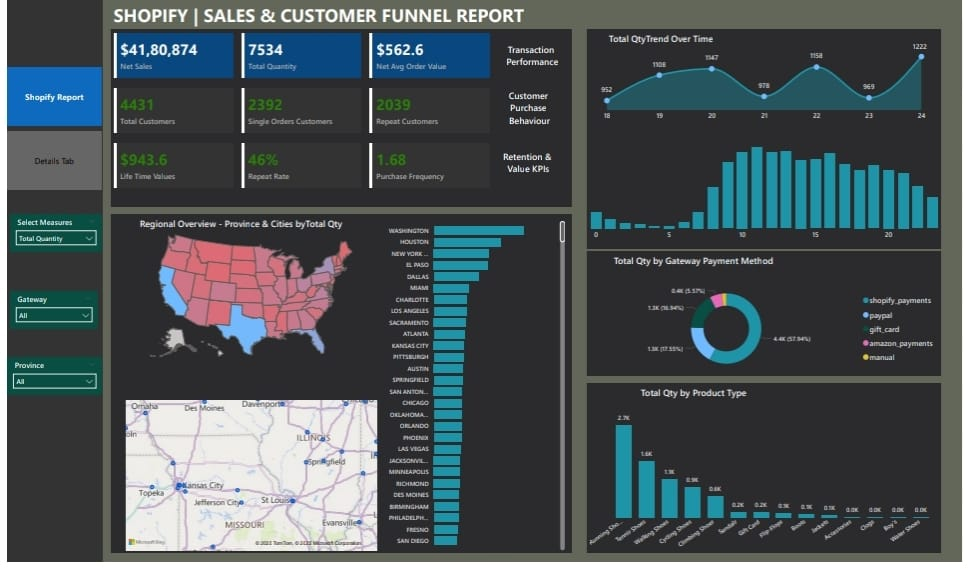

The page's visual inventory and layout, read from the dashboard file:
{"tool":"powerbi","page":{"name":"Shopify Report","canvas":[1700,1000],"ordinal":0},"visuals":[{"type":"shape","box":[0,0,169.2,1000.3],"z":0},{"type":"textbox","box":[184.3,0,744,53.6],"z":1000},{"type":"shape","box":[184.3,53.6,819.4,315],"z":2000},{"type":"cardVisual","fields":{"Data":["shopify_sales.Net Sales","shopify_sales.Total Quantity","shopify_sales.Net Avg Order Value"]},"box":[184.3,53.6,680.3,90.5],"z":3000},{"type":"card","fields":{"Values":["shopify_sales.Transaction Perf"]},"box":[864.6,60.3,139.1,77.1],"z":4000},{"type":"cardVisual","fields":{"Data":["shopify_sales.Total Customers","shopify_sales.Single Orders Customers","shopify_sales.Repeat Customers"]},"box":[184.3,151.6,680.3,90.5],"z":5000},{"type":"card","fields":{"Values":["shopify_sales.Customer Purchase Behaviour"]},"box":[859.6,144.1,139.1,90.5],"z":6000},{"type":"cardVisual","fields":{"Data":["shopify_sales.Life Time Values","shopify_sales.Repeat Rate","shopify_sales.Purchase Frequency"]},"box":[184.3,249.7,680.3,90.5],"z":7000},{"type":"card","fields":{"Values":["shopify_sales.Retention & Value KPIs"]},"box":[857.9,249.7,139.1,78.8],"z":8000},{"type":"shape","box":[184.3,382,819.4,603.2],"z":9000},{"type":"shapeMap","fields":{"Value":["shopify_sales.Total Quantity"],"Category":["shopify_sales.Billing Address Province"]},"box":[206.1,402.1,455.8,249.7],"z":10000},{"type":"slicer","fields":{"Values":["Select Measures.Select Measures"]},"box":[5,382,162.5,67],"z":11000},{"type":"map","fields":{"Category":["shopify_sales.Location"]},"box":[206.1,670.2,455.8,315],"z":12000},{"type":"clusteredBarChart","fields":{"Y":["shopify_sales.Total Quantity"],"Category":["shopify_sales.CITY"]},"box":[661.9,382,335.1,603.2],"z":13000},{"type":"card","fields":{"Values":["shopify_sales.Map Title"]},"box":[184.3,383.7,464.1,35.2],"z":14000},{"type":"shape","box":[1032.2,53.6,630,390.4],"z":15000},{"type":"areaChart","fields":{"Y":["shopify_sales.Total Quantity"],"Category":["shopify_sales.Invoice Date.Variation.Date Hierarchy.Day"]},"box":[1052.3,65.3,589.8,159.2],"z":16000},{"type":"columnChart","fields":{"Y":["shopify_sales.Total Quantity"],"Category":["shopify_sales.Hour"]},"box":[1032.2,243,630,194.4],"z":17000},{"type":"card","fields":{"Values":["shopify_sales.Trend Title"]},"box":[1032.2,53.6,263.1,35.2],"z":18000},{"type":"shape","box":[1032.2,449.1,630,221.2],"z":19000},{"type":"donutChart","fields":{"Y":["shopify_sales.Total Quantity"],"Category":["shopify_sales.Gateway"]},"box":[1032.2,501,630,169.2],"z":20000},{"type":"card","fields":{"Values":["shopify_sales.Gateway Title"]},"box":[1032.2,449.1,378.7,35.2],"z":21000},{"type":"shape","box":[1032.2,683.6,630,301.6],"z":22000},{"type":"columnChart","fields":{"Y":["shopify_sales.Total Quantity"],"Category":["shopify_sales.Product Type"]},"box":[1032.2,720.5,630,264.7],"z":23000},{"type":"card","fields":{"Values":["shopify_sales.Product Title"]},"box":[1032.2,683.6,378.7,35.2],"z":24000},{"type":"slicer","fields":{"Values":["shopify_sales.Gateway"]},"box":[5,519.4,155.8,67],"z":25000},{"type":"slicer","fields":{"Values":["shopify_sales.Billing Address Province"]},"box":[0,636.7,167.6,67],"z":26000},{"type":"pageNavigator","box":[0,120.6,167.6,219.5],"z":27000},{"type":"shape","box":[206,670,456,34],"z":28000}]}

Visuals, with their boxes on the page's 1700x1000 design canvas (x1, y1, x2, y2). These are canvas units, not pixel positions in the 968x569 screenshot, which may show the page scaled, cropped or inside an application window:
shape: <region>0, 0, 169, 1000</region>
textbox: <region>184, 0, 928, 54</region>
shape: <region>184, 54, 1004, 369</region>
cardVisual - shopify_sales.Net Sales x shopify_sales.Total Quantity: <region>184, 54, 865, 144</region>
card - shopify_sales.Transaction Perf: <region>865, 60, 1004, 137</region>
cardVisual - shopify_sales.Total Customers x shopify_sales.Single Orders Customers: <region>184, 152, 865, 242</region>
card - shopify_sales.Customer Purchase Behaviour: <region>860, 144, 999, 235</region>
cardVisual - shopify_sales.Life Time Values x shopify_sales.Repeat Rate: <region>184, 250, 865, 340</region>
card - shopify_sales.Retention & Value KPIs: <region>858, 250, 997, 328</region>
shape: <region>184, 382, 1004, 985</region>
shapeMap - shopify_sales.Total Quantity x shopify_sales.Billing Address Province: <region>206, 402, 662, 652</region>
slicer - Select Measures.Select Measures: <region>5, 382, 168, 449</region>
map - shopify_sales.Location: <region>206, 670, 662, 985</region>
clusteredBarChart - shopify_sales.Total Quantity x shopify_sales.CITY: <region>662, 382, 997, 985</region>
card - shopify_sales.Map Title: <region>184, 384, 648, 419</region>
shape: <region>1032, 54, 1662, 444</region>
areaChart - shopify_sales.Total Quantity x shopify_sales.Invoice Date.Variation.Date Hierarchy.Day: <region>1052, 65, 1642, 224</region>
columnChart - shopify_sales.Total Quantity x shopify_sales.Hour: <region>1032, 243, 1662, 437</region>
card - shopify_sales.Trend Title: <region>1032, 54, 1295, 89</region>
shape: <region>1032, 449, 1662, 670</region>
donutChart - shopify_sales.Total Quantity x shopify_sales.Gateway: <region>1032, 501, 1662, 670</region>
card - shopify_sales.Gateway Title: <region>1032, 449, 1411, 484</region>
shape: <region>1032, 684, 1662, 985</region>
columnChart - shopify_sales.Total Quantity x shopify_sales.Product Type: <region>1032, 720, 1662, 985</region>
card - shopify_sales.Product Title: <region>1032, 684, 1411, 719</region>
slicer - shopify_sales.Gateway: <region>5, 519, 161, 586</region>
slicer - shopify_sales.Billing Address Province: <region>0, 637, 168, 704</region>
pageNavigator: <region>0, 121, 168, 340</region>
shape: <region>206, 670, 662, 704</region>
